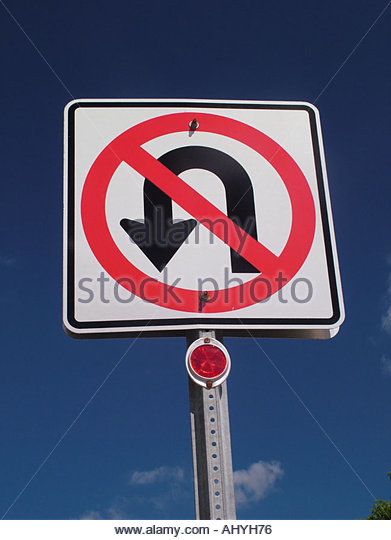No_u_turn: (82, 111, 315, 312)
